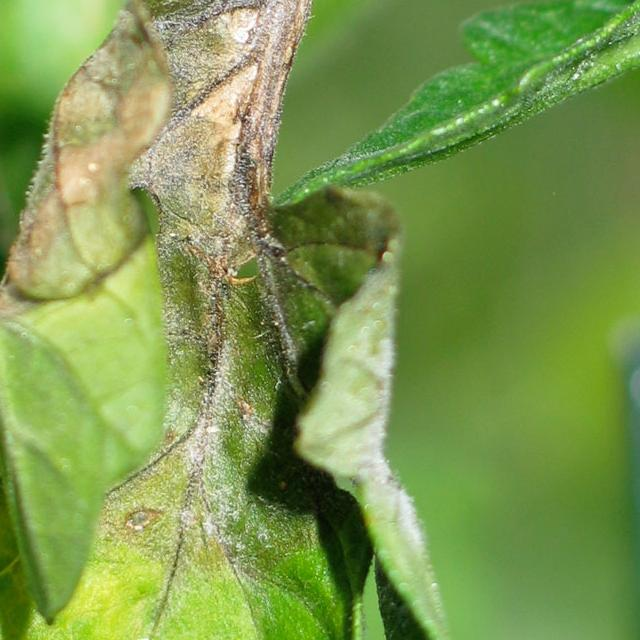Tomato leaf late blight: (0, 0, 465, 640)
